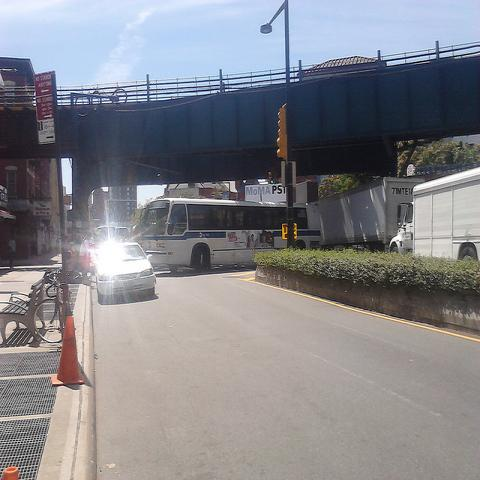bus: (138, 200, 288, 276)
car: (94, 240, 155, 305)
truck: (389, 166, 479, 261), (317, 176, 426, 253)
